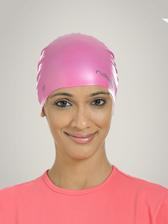other: (32, 30, 123, 112)
